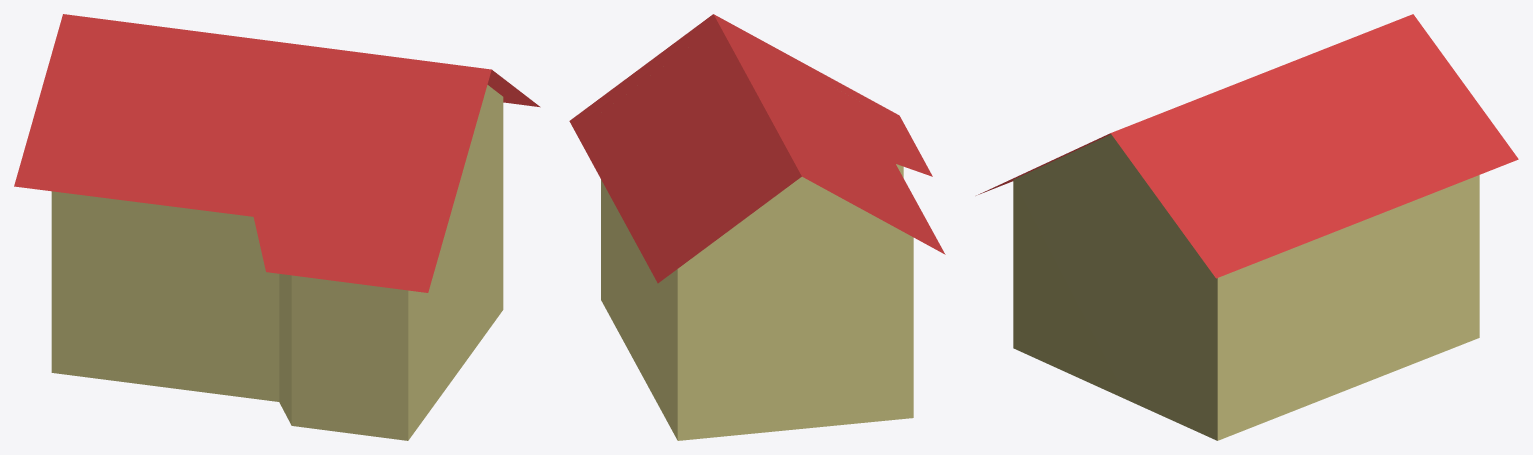
3 renders of one model, left to right at view 1: azimuth 30°, elevation 25°; view 2: azimuth 150°, elevation 25°; view 3: azimuth 270°, elevation 25°, orthographic. The views are drawn at different scales.
Bounding box in the file's own units: 18.29 × 19.6 × 10.98.
